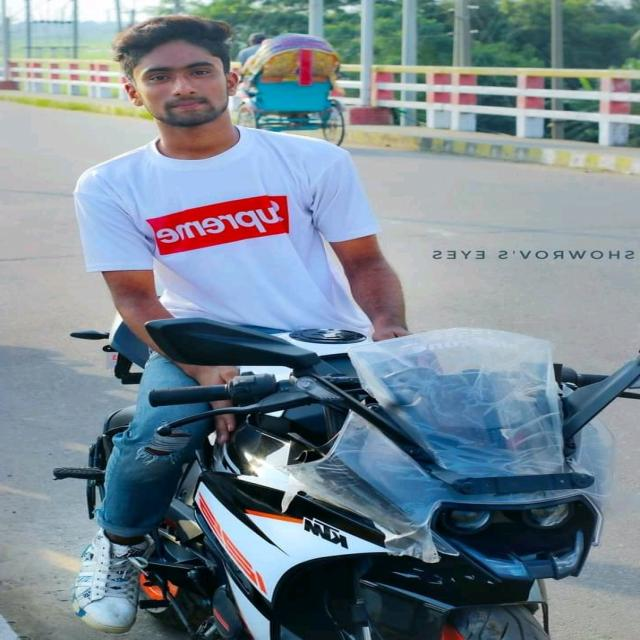Not Wearing Helmet: (110, 0, 247, 133)
